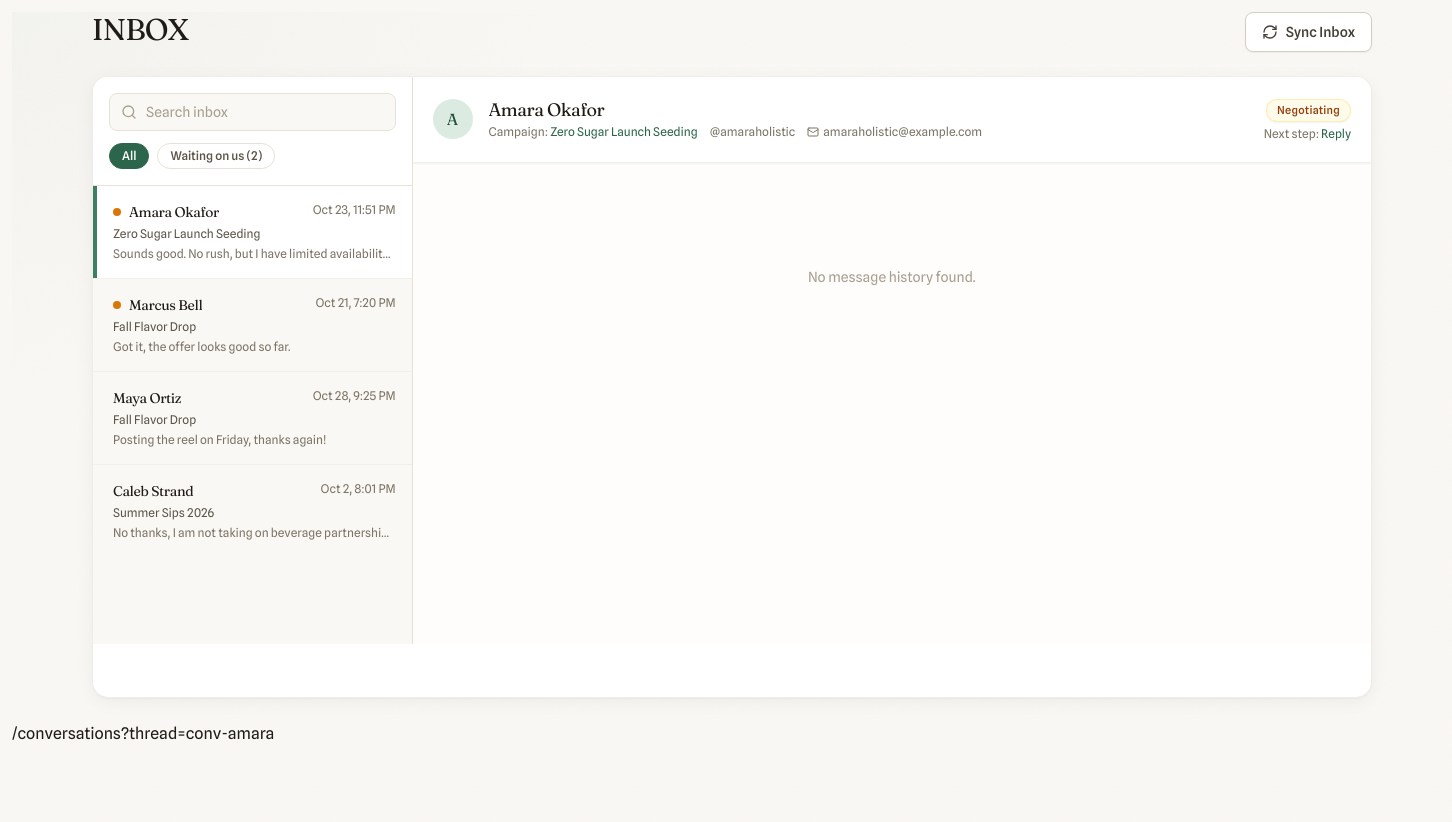
Scenario: Conversations page › explains an empty result instead of showing a blank list
Type "no such thing" into the search field named "Search conversations" at (252, 112), box [109,93,396,131]
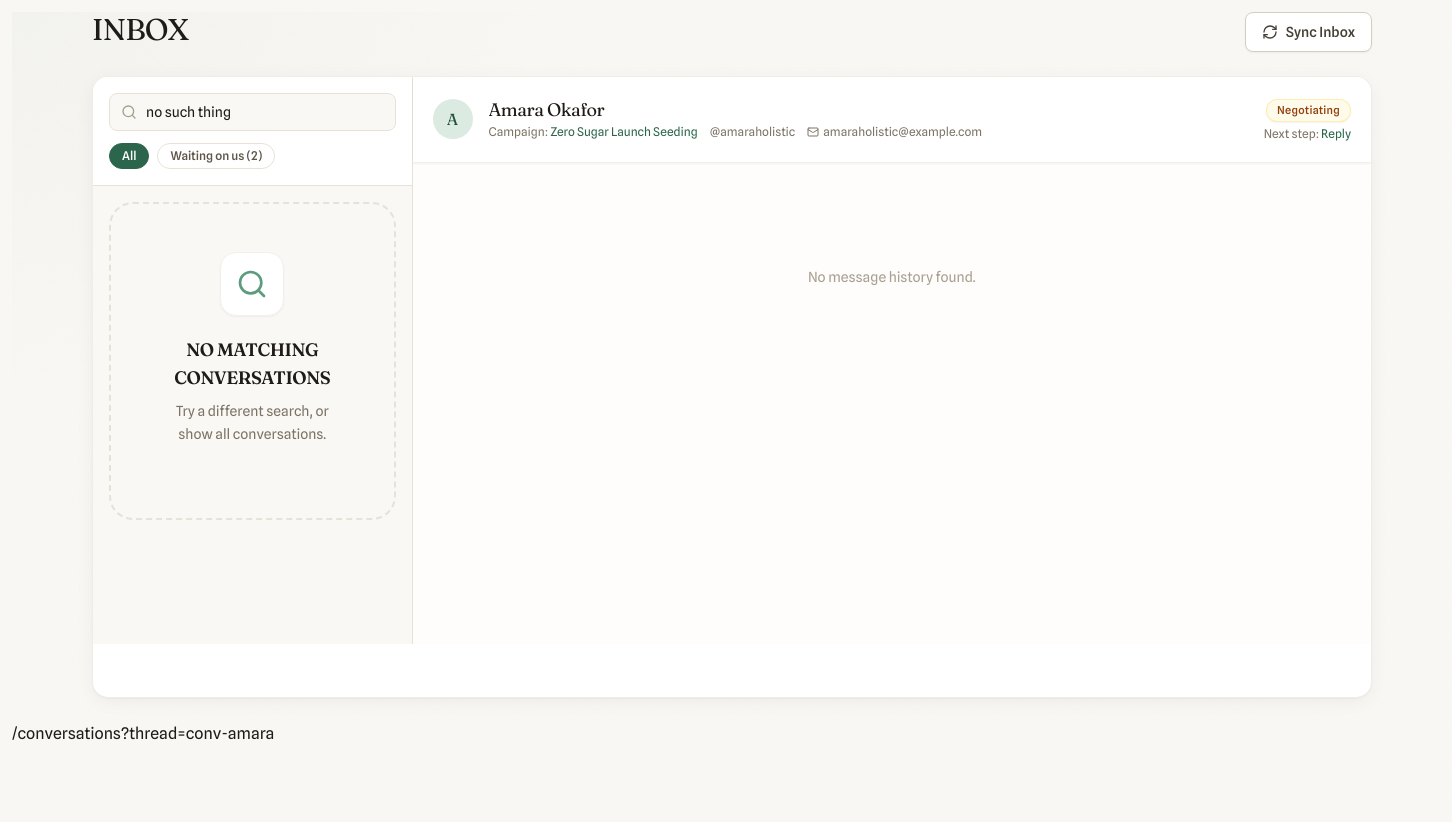
Now the heading "No matching conversations" is shown, box [174,338,330,389]
